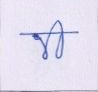i_matra: (52, 20, 65, 59)
